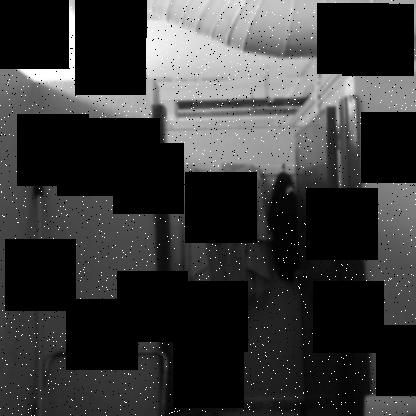Porte: (148, 93, 374, 415)
